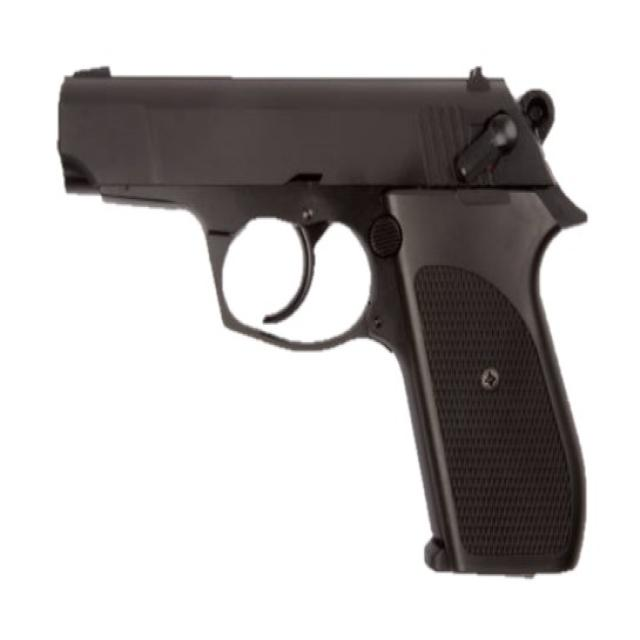pistol: (51, 60, 593, 583)
